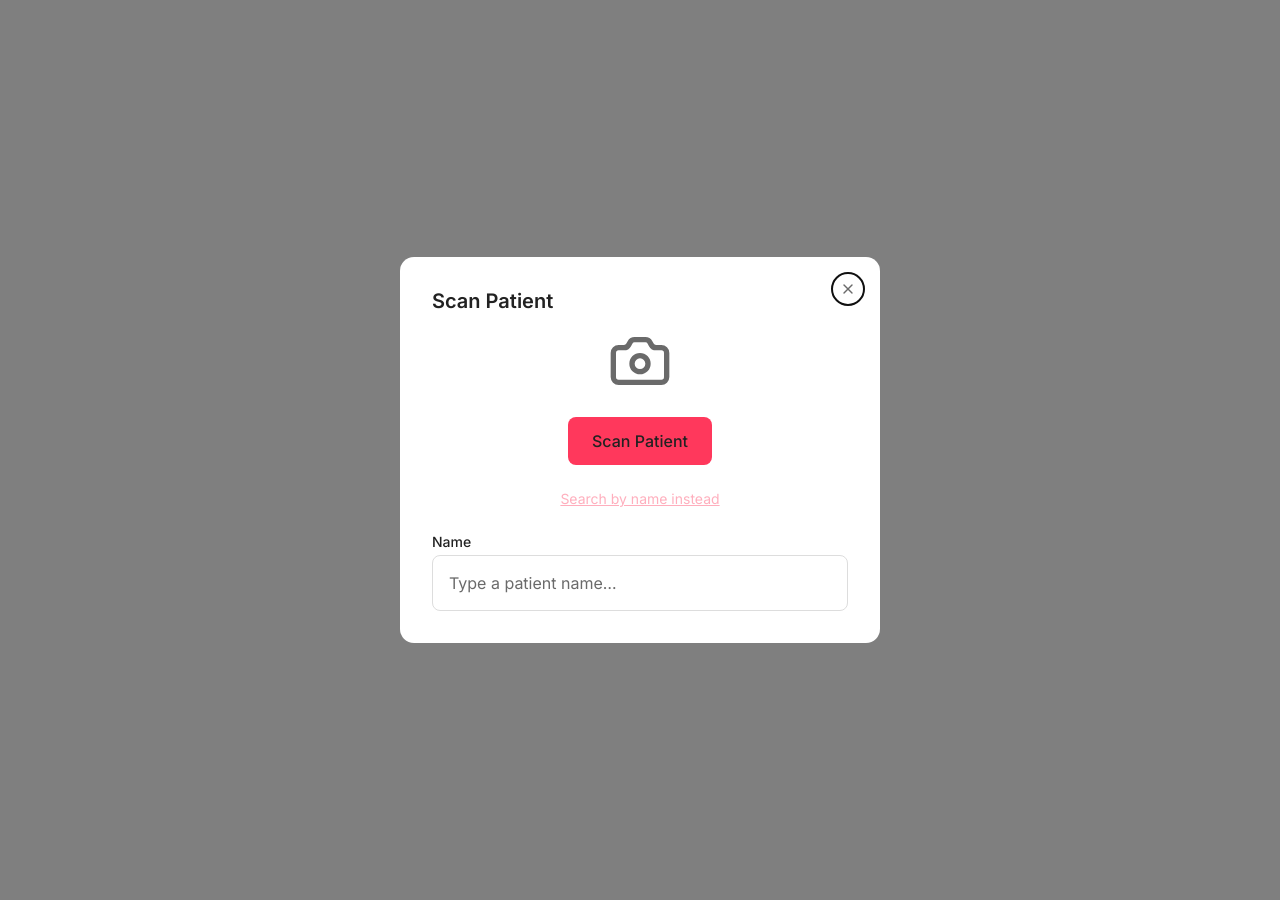
FaceIDScanner › shows camera-denied error inline when getUserMedia fails
What coordinates should you click on to do the following:
click the button with aria-label "Start face scan"
I would click on:
 (640, 441)
Its box is [568,417,712,465].
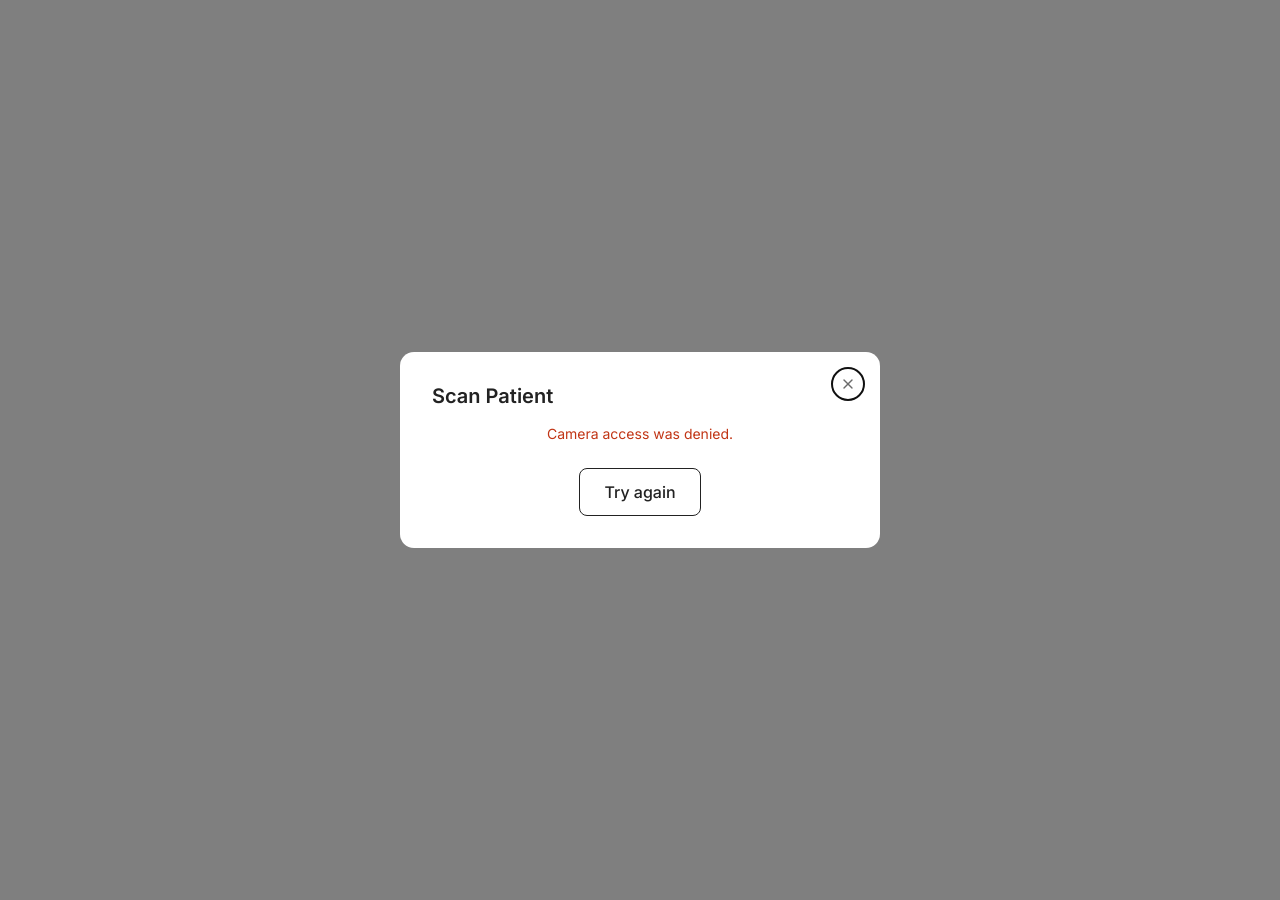
Now the text "Camera access was denied." is shown, box [547,424,733,444]
Now the button with aria-label "Retry face scan" is shown, box [579,468,701,516]
